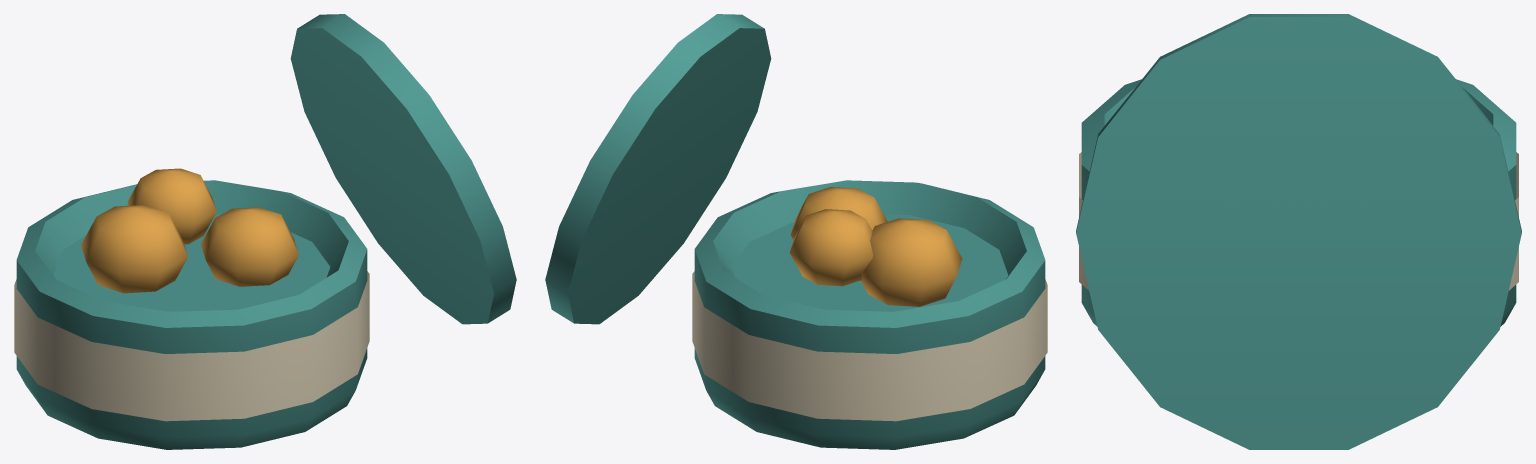
File: bait-sweet.glb
The picture shows the model from 3 angles, left to right: view 1: azimuth 30°, elevation 25°; view 2: azimuth 150°, elevation 25°; view 3: azimuth 270°, elevation 25°; orthographic projection. The views are drawn at different scales.
Visible parts, largest first — view 1: bait-sweet; view 2: bait-sweet; view 3: bait-sweet.
Part boxes in pixels (left/top/right/bottom): bait-sweet: left=14, top=14, right=516, bottom=449; bait-sweet: left=545, top=14, right=1047, bottom=449; bait-sweet: left=1076, top=14, right=1521, bottom=449.
Size of the model in its own units: 0.1067 by 0.0739 by 0.076.
